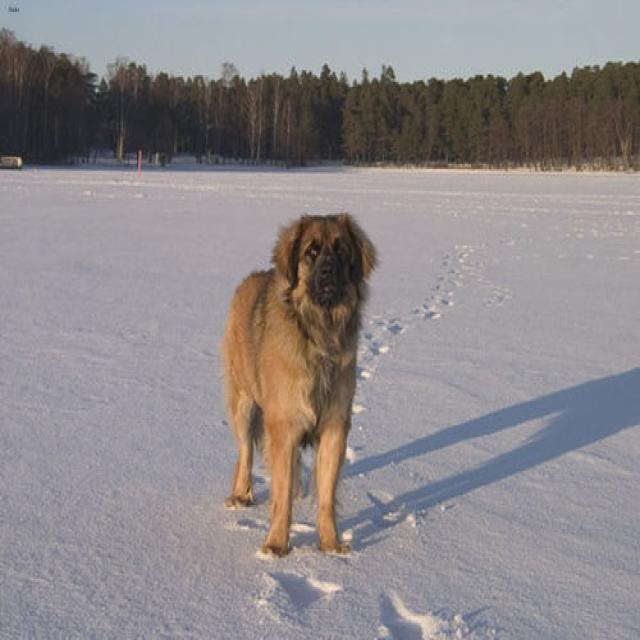dog-leonberger: (212, 201, 385, 570)
